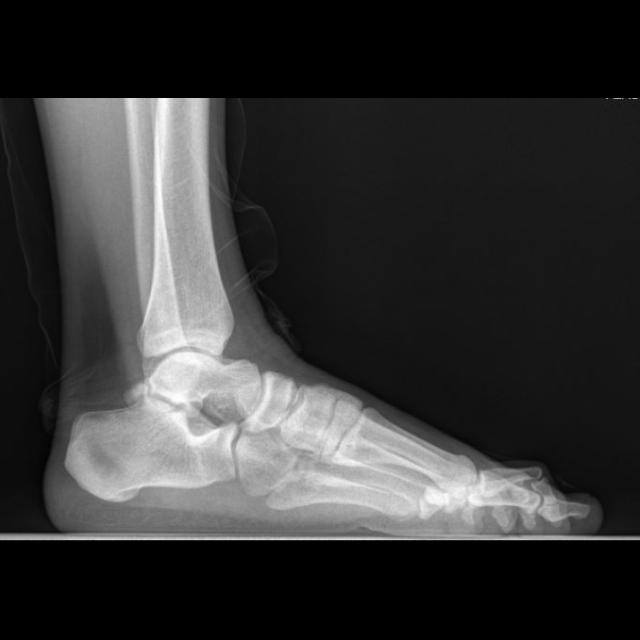a: (64, 398, 238, 502)
b: (241, 371, 298, 431)
c: (329, 407, 475, 499)
